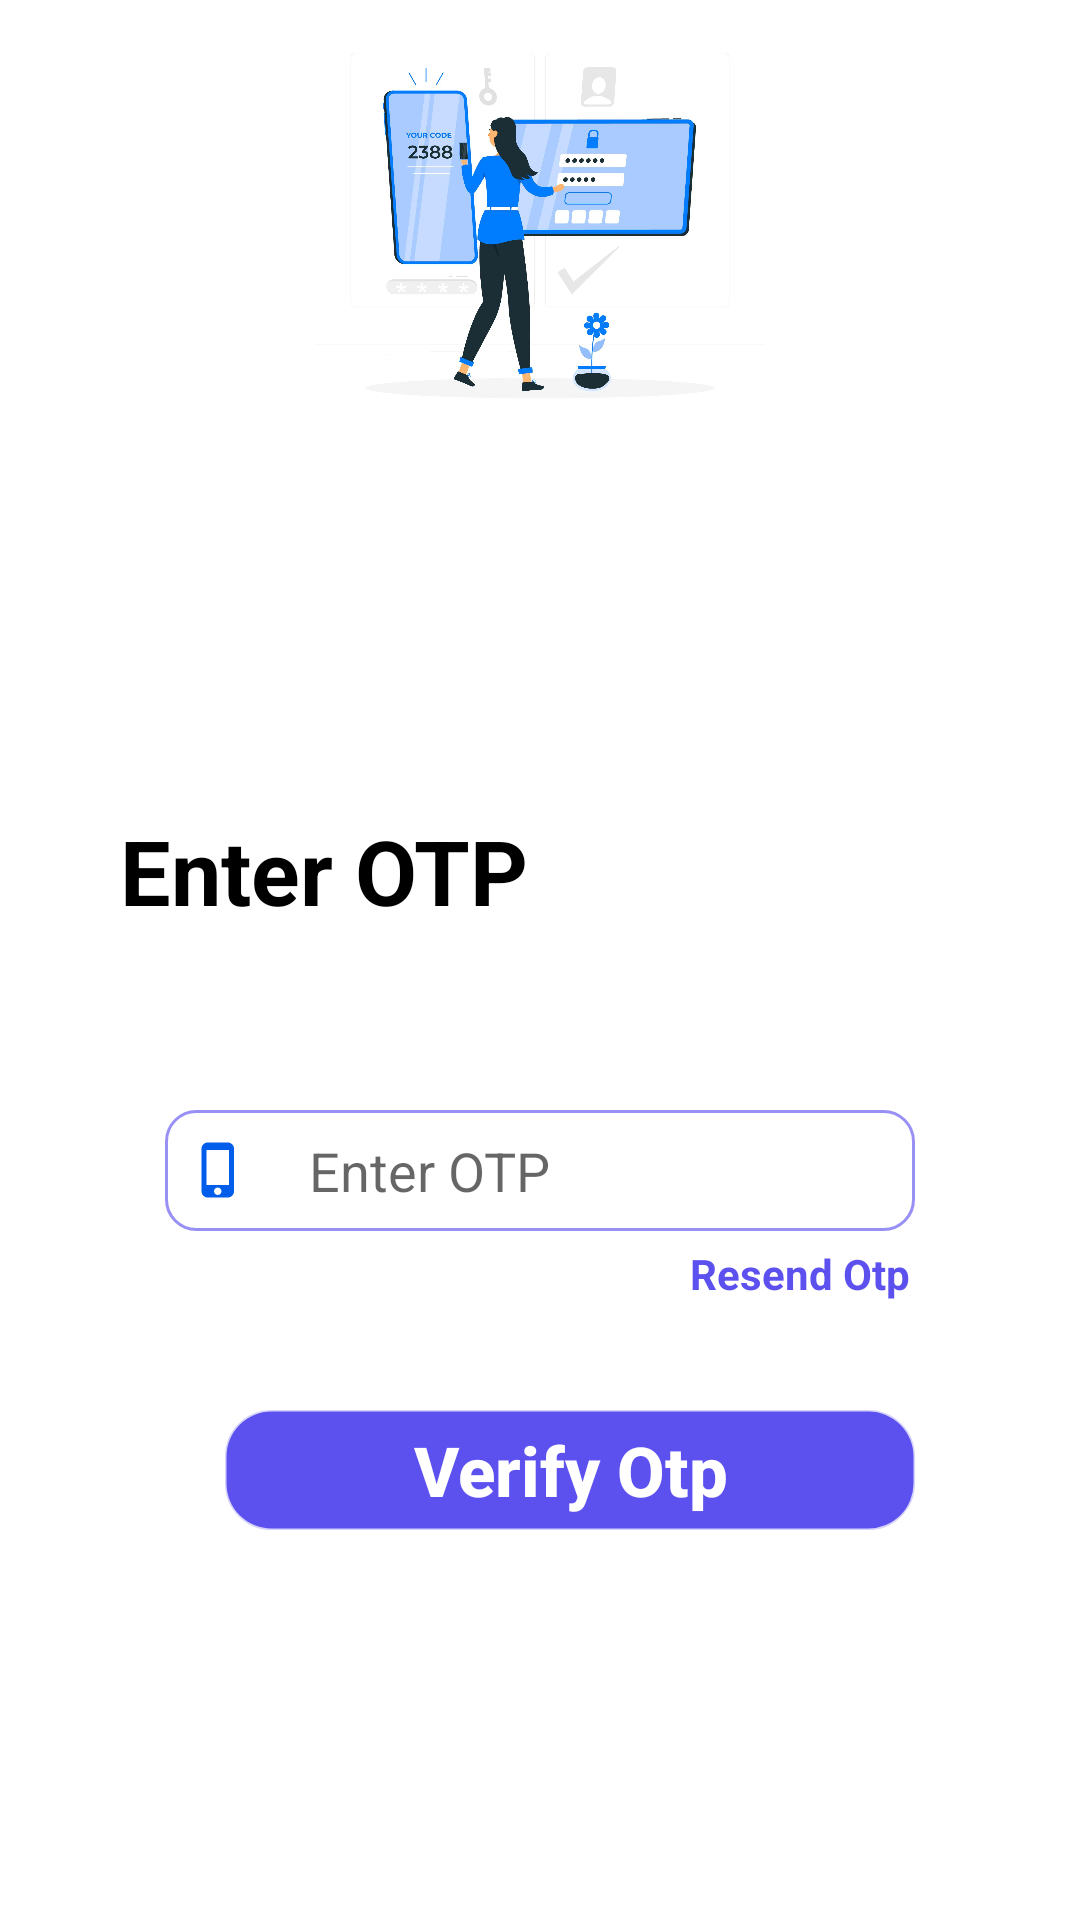

Where icons sit on this 1080 x 1920 app screen, as (x1, y1, x2, y2):
otp: (383, 67, 696, 392)
